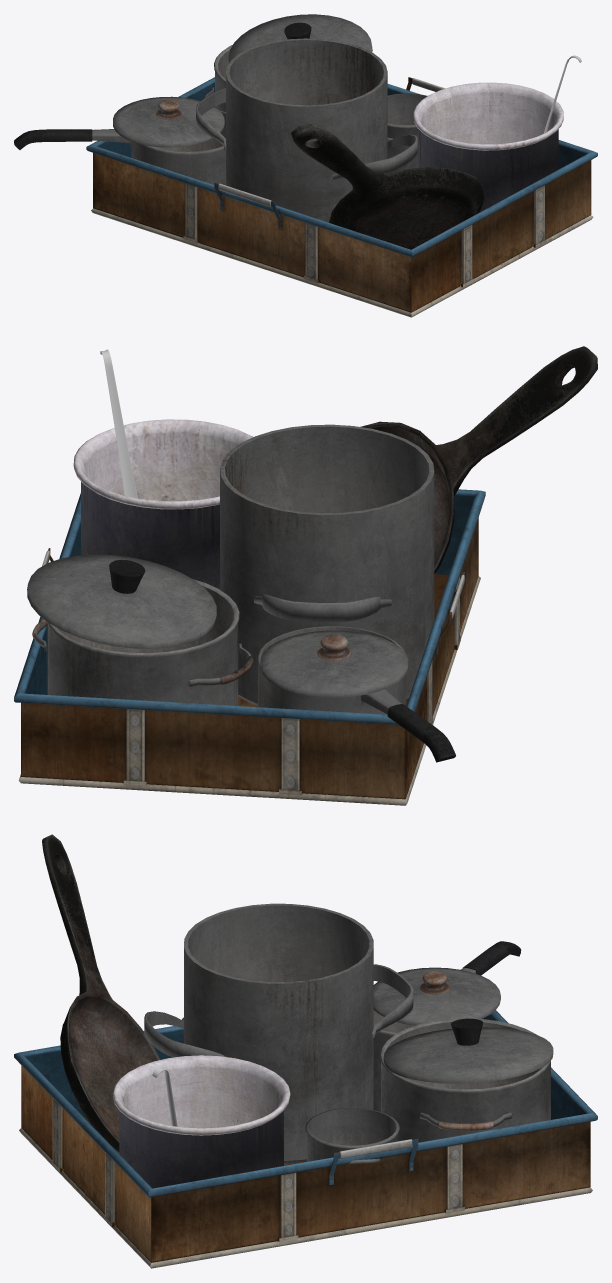
File: cozinha4.fbx
3 views of the same model, one above another, from view 1: azimuth 30°, elevation 25°; view 2: azimuth 150°, elevation 25°; view 3: azimuth 270°, elevation 25° (orthographic). The views are drawn at different scales.
Visible parts, largest first — view 1: SM_DishTray_02, SM_Pot_02.001, SM_Pot_05.001, SM_Pan_01.001, SM_Pot_06.001, SM_Pot_06_Top.001, SM_Pot_01_Top.001, SM_Pot_04.001, SM_Pot_01.001; view 2: SM_DishTray_02, SM_Pot_02.001, SM_Pot_05.001, SM_Pot_01_Top.001, SM_Pot_01.001, SM_Pan_01.001, SM_Pot_06_Top.001, SM_Pot_06.001, SM_Ladle; view 3: SM_DishTray_02, SM_Pot_02.001, SM_Pot_05.001, SM_Pan_01.001, SM_Pot_01.001, SM_Pot_01_Top.001, SM_Pot_06_Top.001, SM_Pot_04.001, SM_Pot_06.001.
Boxes of the visible parts, x1=… form: SM_DishTray_02: x1=86, y1=77, x2=597, y2=317; SM_Pot_02.001: x1=196, y1=38, x2=417, y2=222; SM_Pot_05.001: x1=413, y1=82, x2=563, y2=212; SM_Pan_01.001: x1=291, y1=124, x2=484, y2=249; SM_Pot_06.001: x1=14, y1=110, x2=225, y2=185; SM_Pot_06_Top.001: x1=113, y1=96, x2=224, y2=147; SM_Pot_01_Top.001: x1=228, y1=14, x2=372, y2=62; SM_Pot_04.001: x1=387, y1=93, x2=427, y2=173; SM_Pot_01.001: x1=204, y1=45, x2=232, y2=112; SM_DishTray_02: x1=14, y1=489, x2=485, y2=805; SM_Pot_02.001: x1=220, y1=424, x2=434, y2=705; SM_Pot_05.001: x1=73, y1=419, x2=252, y2=589; SM_Pot_01_Top.001: x1=27, y1=554, x2=216, y2=648; SM_Pot_01.001: x1=32, y1=579, x2=253, y2=705; SM_Pan_01.001: x1=360, y1=346, x2=597, y2=573; SM_Pot_06_Top.001: x1=260, y1=630, x2=408, y2=697; SM_Pot_06.001: x1=257, y1=626, x2=455, y2=762; SM_Ladle: x1=100, y1=349, x2=138, y2=498; SM_DishTray_02: x1=14, y1=1010, x2=597, y2=1268; SM_Pot_02.001: x1=144, y1=903, x2=413, y2=1163; SM_Pot_05.001: x1=113, y1=1055, x2=290, y2=1188; SM_Pan_01.001: x1=42, y1=834, x2=160, y2=1151; SM_Pot_01.001: x1=380, y1=1018, x2=550, y2=1142; SM_Pot_01_Top.001: x1=383, y1=1018, x2=553, y2=1083; SM_Pot_06_Top.001: x1=373, y1=967, x2=500, y2=1025; SM_Pot_04.001: x1=305, y1=1108, x2=399, y2=1164; SM_Pot_06.001: x1=373, y1=941, x2=521, y2=1111.
Size of the model in its own units: 90.18 by 41.67 by 90.12.
